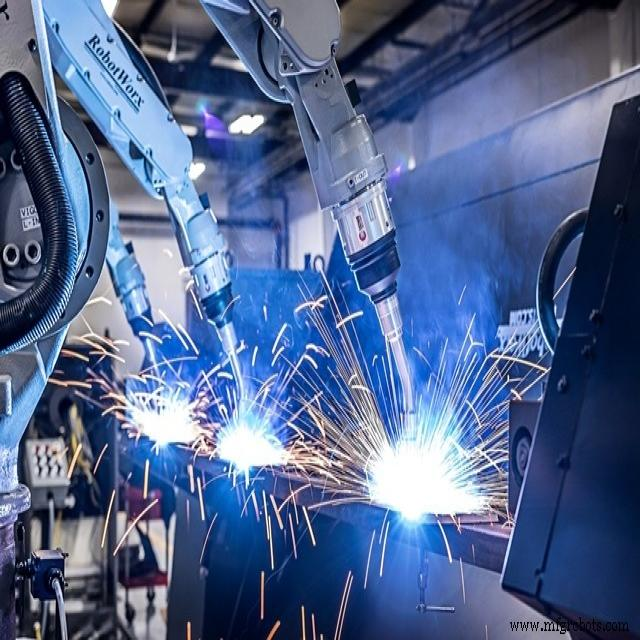welding: (370, 444, 488, 514), (220, 430, 280, 467), (143, 402, 193, 442)
